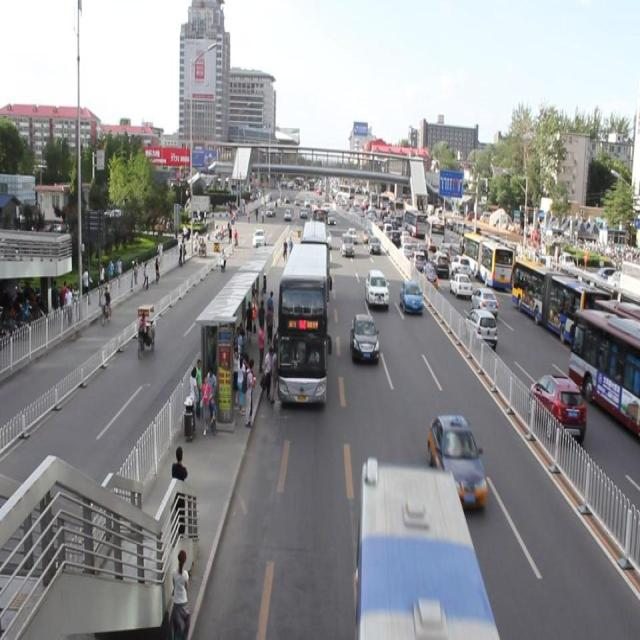car: (350, 313, 378, 363), (364, 269, 388, 306), (399, 280, 422, 313), (340, 232, 353, 256), (369, 234, 379, 253), (362, 229, 372, 242)
van: (356, 457, 496, 633), (278, 242, 326, 402), (300, 220, 328, 298)
